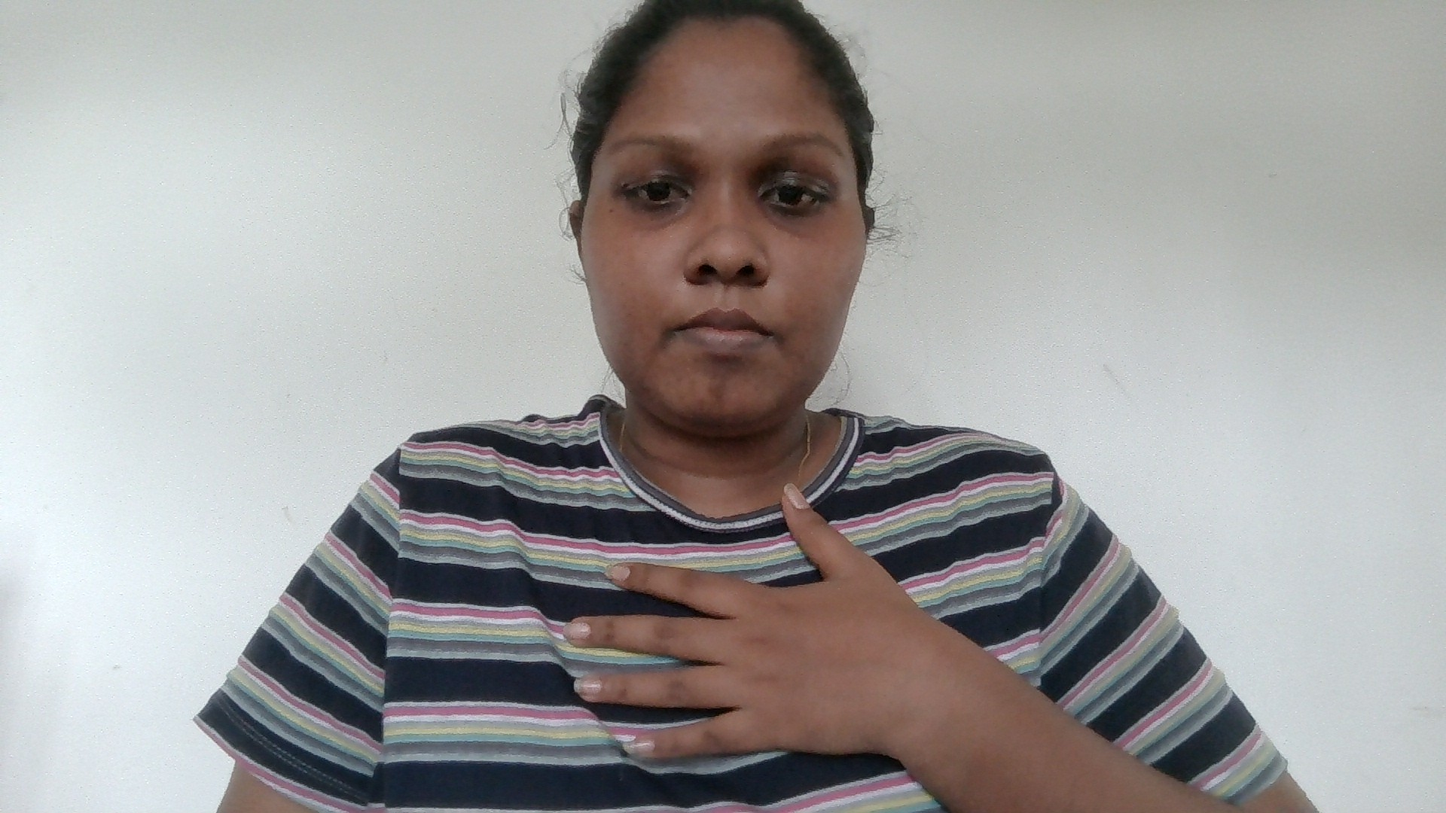Please: (555, 486, 912, 797)
